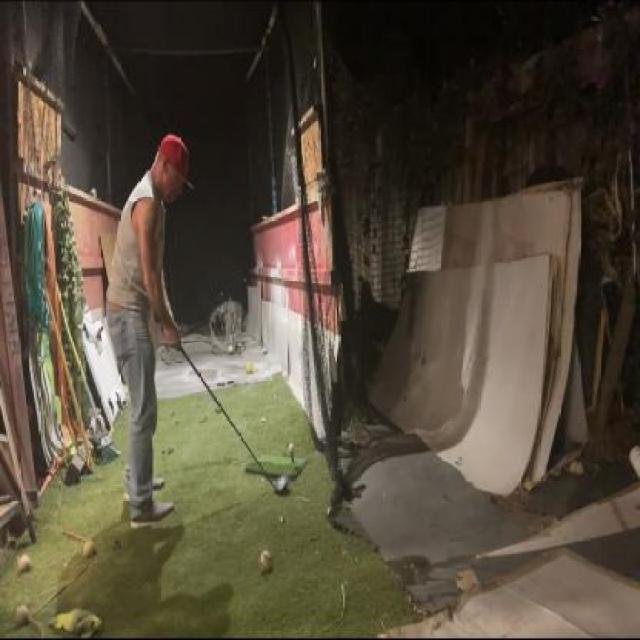club head: (265, 471, 292, 503)
